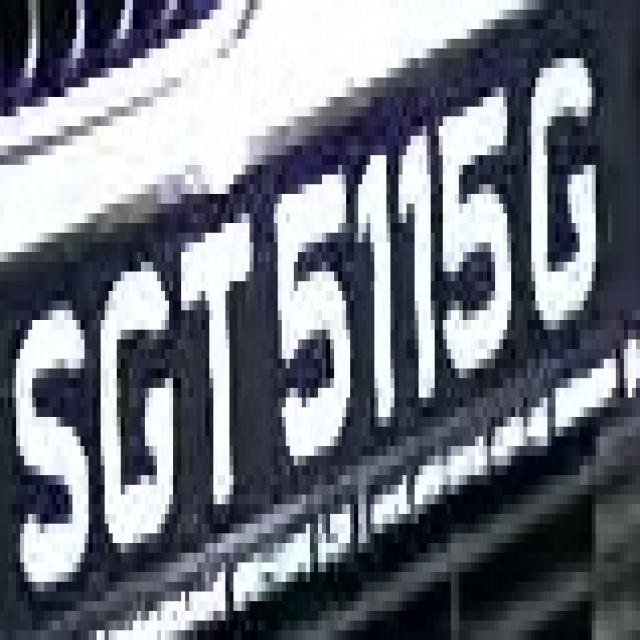1: (390, 97, 451, 427), (358, 107, 403, 456)
5: (266, 136, 354, 475), (431, 58, 515, 398)
G: (515, 29, 608, 349), (97, 204, 173, 572)
S: (8, 252, 93, 601)
T: (177, 194, 270, 524)
